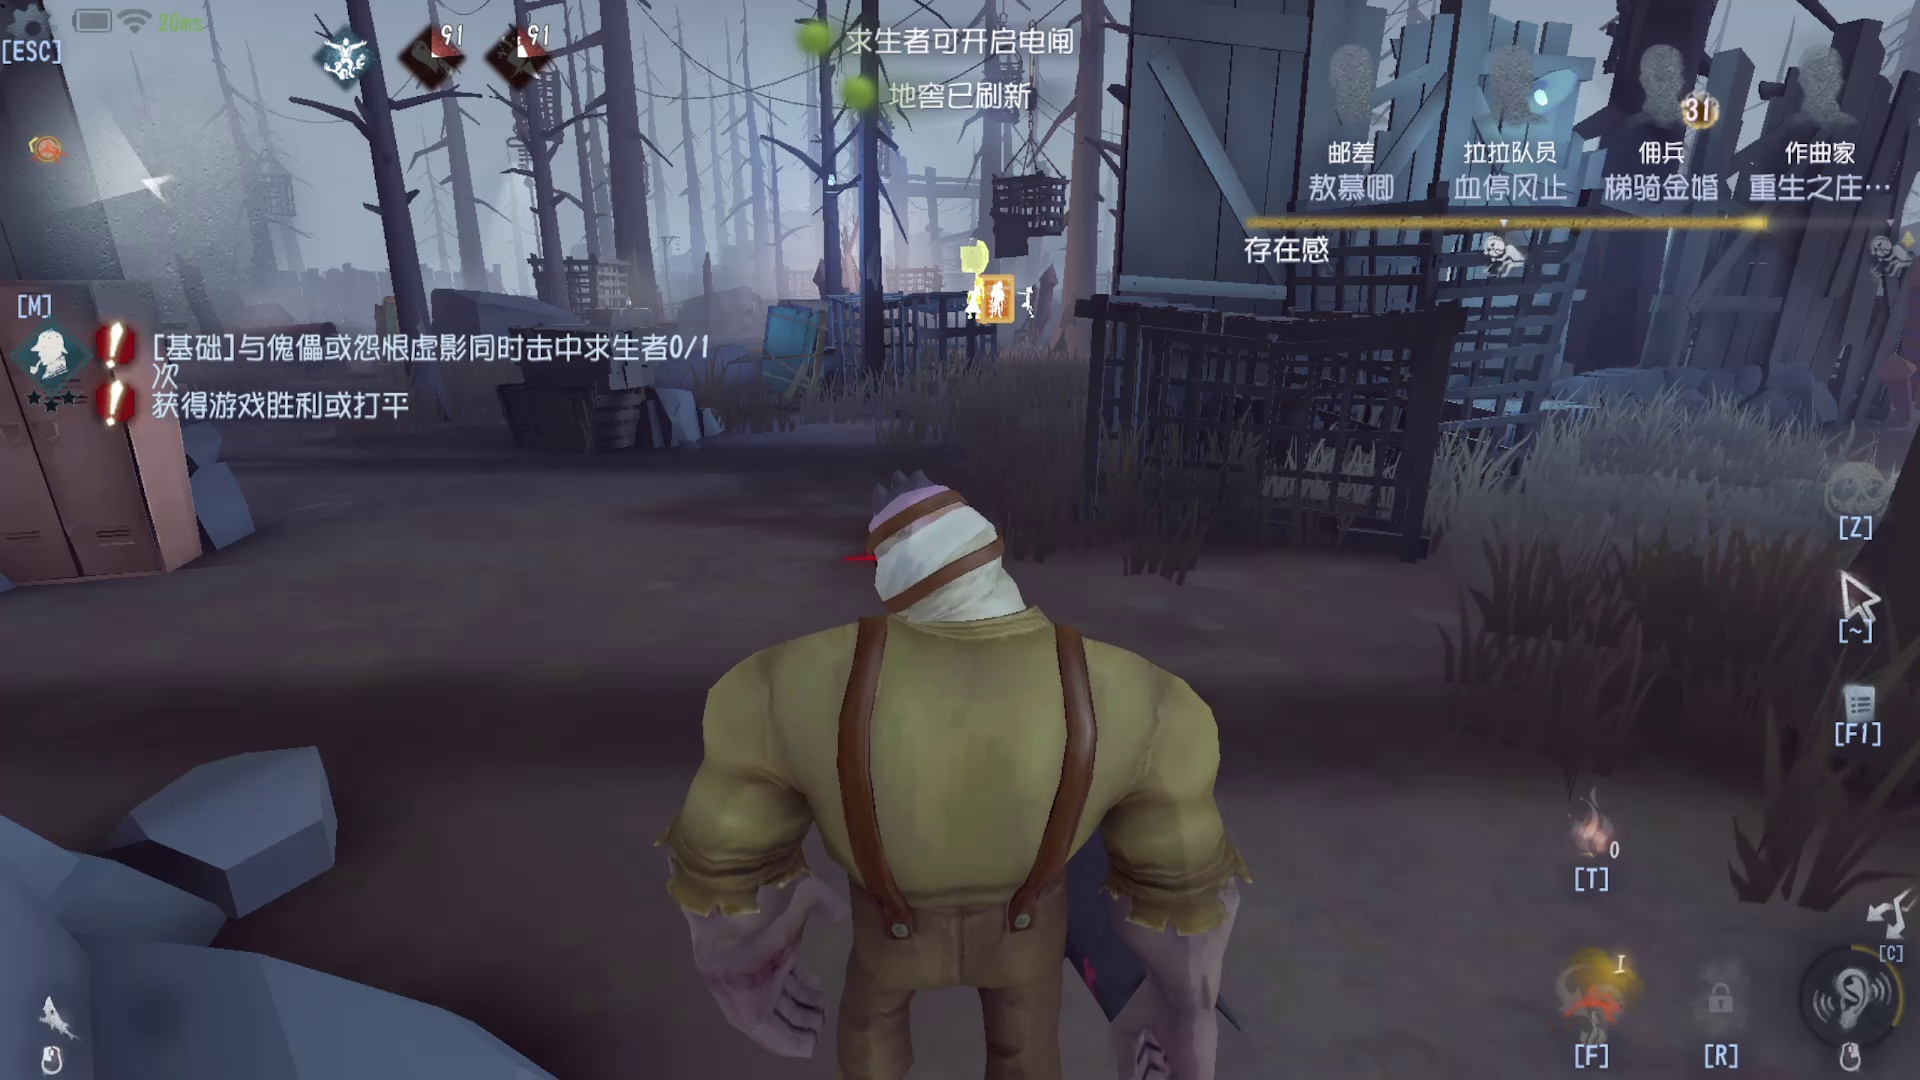木板: (729, 266, 825, 386)
设置: (1, 1, 107, 80)
